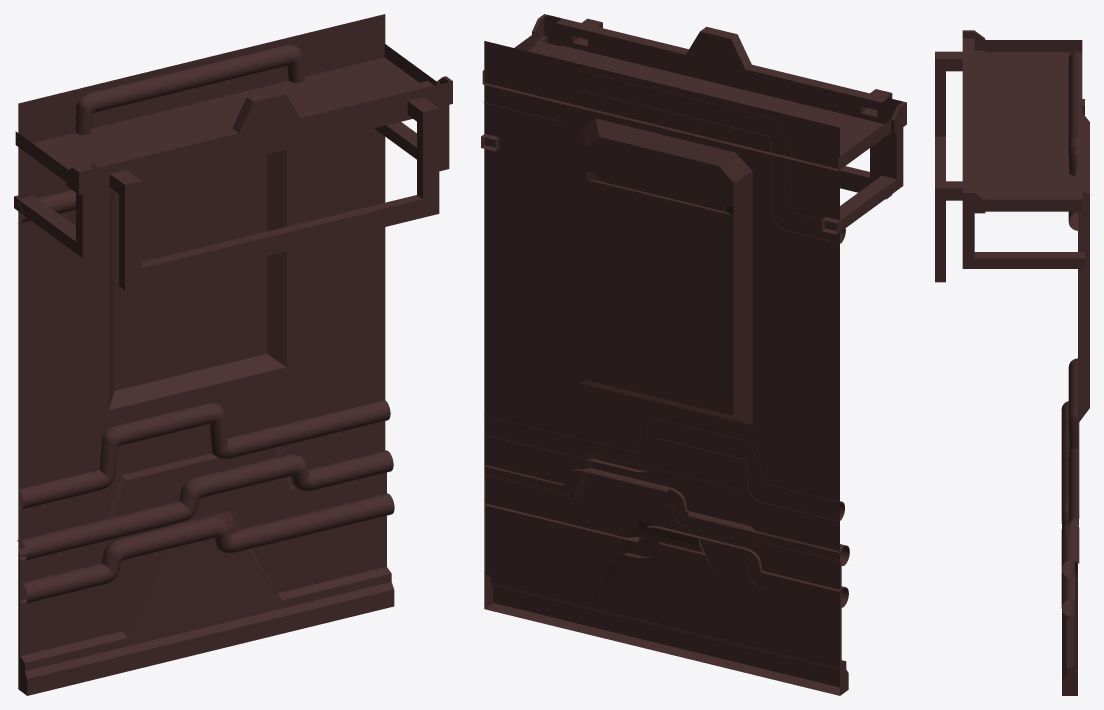
The model's file is Anger_Wall_B.fbx.
3 views of the same model, side by side, from view 1: azimuth 30°, elevation 25°; view 2: azimuth 150°, elevation 25°; view 3: azimuth 270°, elevation 25° (orthographic). The views are drawn at different scales.
Visible parts, largest first — view 1: Wall_Window, Rack, Pipes_E; view 2: Wall_Window, Rack, Pipes_E; view 3: Rack, Pipes_E, Wall_Window.
Part boxes in pixels (box(x1,y1,x2,y2)): Wall_Window: box(18, 14, 394, 695); Rack: box(14, 44, 452, 290); Pipes_E: box(17, 45, 394, 603); Wall_Window: box(484, 41, 848, 695); Rack: box(481, 14, 906, 234); Pipes_E: box(484, 70, 849, 607); Rack: box(935, 30, 1084, 282); Pipes_E: box(1061, 50, 1079, 616); Wall_Window: box(1062, 113, 1089, 695).
Size of the model in its own units: 433 by 656 by 174.
